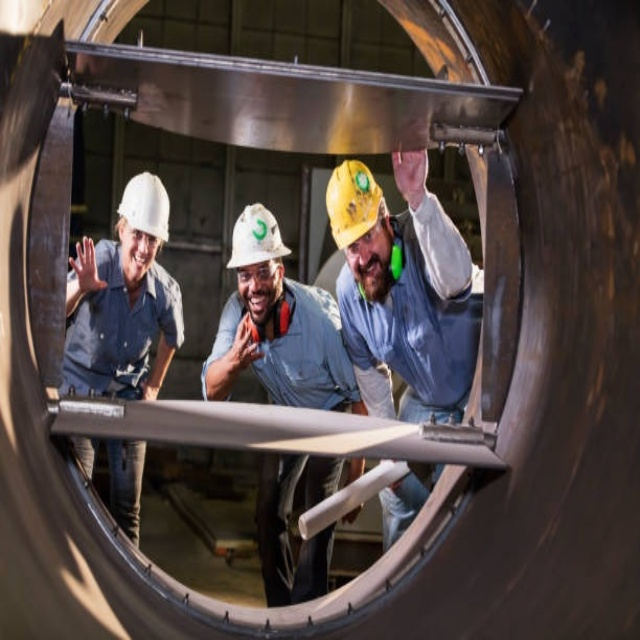Gafas: (343, 204, 384, 257), (234, 257, 282, 282), (123, 218, 161, 249)
Sin_guantes: (391, 141, 432, 201), (65, 238, 105, 296), (231, 317, 267, 369)
Sin_mascara: (357, 256, 380, 287), (128, 249, 150, 276), (245, 290, 268, 315)
